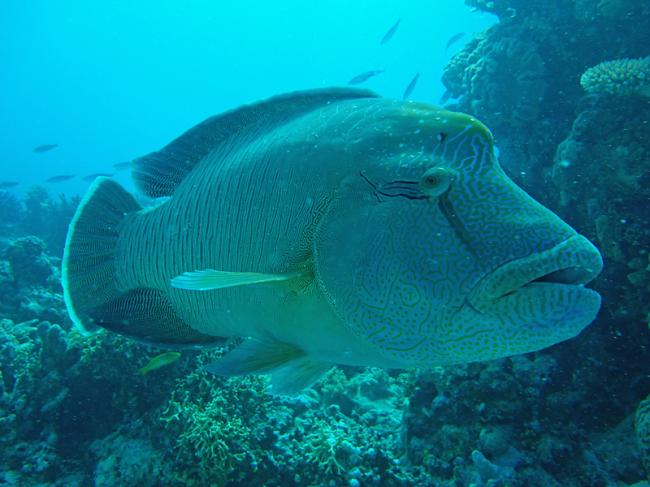fish: (61, 86, 601, 398)
